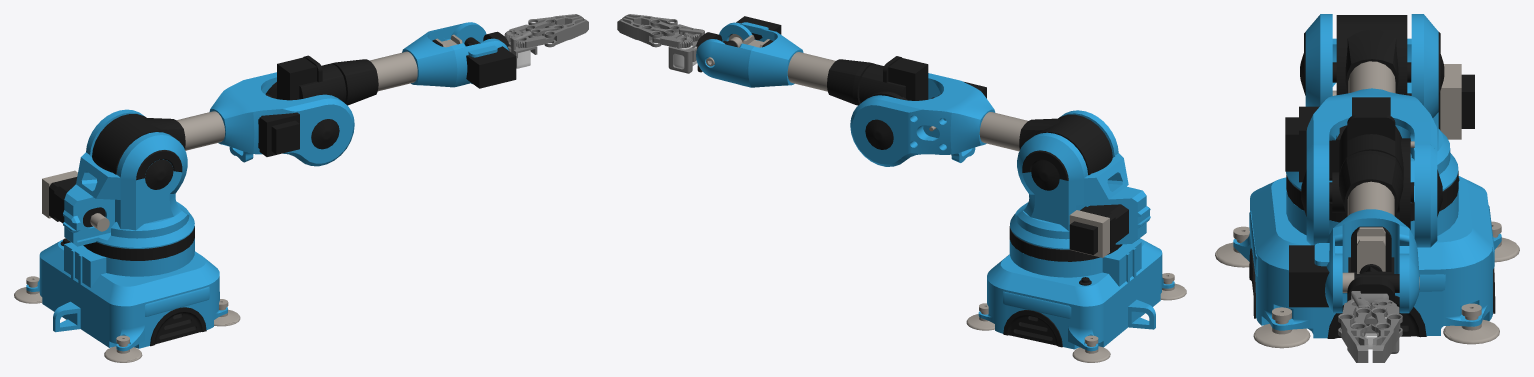
File: Manipulator 1.fbx
3 renders of one model, left to right at view 1: azimuth 30°, elevation 25°; view 2: azimuth 150°, elevation 25°; view 3: azimuth 270°, elevation 25°, orthographic. The views are drawn at different scales.
Parts seen in each view (by area): view 1: 1-Base, 2-Shoulder, 3-Arm, 5-Forearm, 4-Elbow, G2_Clamp001; view 2: 1-Base, 3-Arm, 2-Shoulder, 5-Forearm, 4-Elbow, G2_MainSupport, G2_Clamp; view 3: 1-Base, 3-Arm, 5-Forearm, 2-Shoulder, 4-Elbow, 6-Wrist, G2_Clamp, G2_Clamp001, 7-Hand, G2_MainSupport, G2_Rod, G2_Rod001 (+1 smaller).
Part boxes in pixels (x1,y1,x2,y2): 1-Base: (14, 226, 240, 362); 2-Shoulder: (42, 109, 194, 248); 3-Arm: (92, 72, 354, 174); 5-Forearm: (331, 22, 516, 105); 4-Elbow: (266, 55, 346, 102); G2_Clamp001: (544, 18, 588, 47); 1-Base: (966, 226, 1186, 362); 3-Arm: (850, 73, 1112, 175); 2-Shoulder: (1010, 110, 1150, 257); 5-Forearm: (696, 16, 875, 105); 4-Elbow: (859, 56, 928, 102); G2_MainSupport: (666, 27, 704, 73); G2_Clamp: (617, 18, 661, 47); 1-Base: (1215, 171, 1519, 348); 3-Arm: (1285, 15, 1442, 247); 5-Forearm: (1289, 150, 1419, 313); 2-Shoulder: (1286, 14, 1474, 202); 4-Elbow: (1329, 97, 1413, 229); 6-Wrist: (1348, 226, 1419, 292); G2_Clamp: (1372, 313, 1402, 362); G2_Clamp001: (1338, 313, 1368, 362); 7-Hand: (1347, 276, 1394, 302); G2_MainSupport: (1351, 291, 1399, 353); G2_Rod: (1351, 307, 1371, 337); G2_Rod001: (1371, 307, 1390, 334).
Size of the model in its own units: 86.59 by 28.84 by 32.13.
